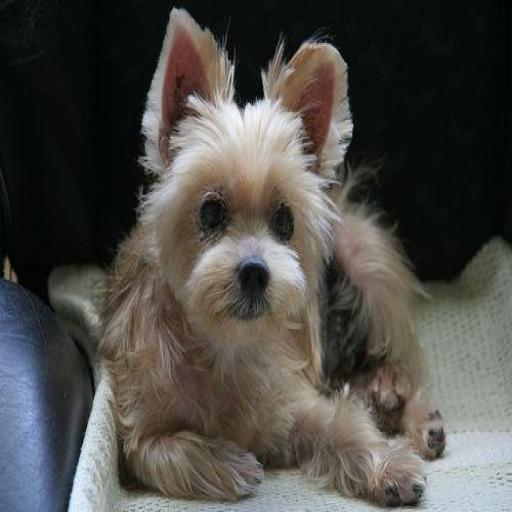dog_face: (145, 11, 337, 330)
